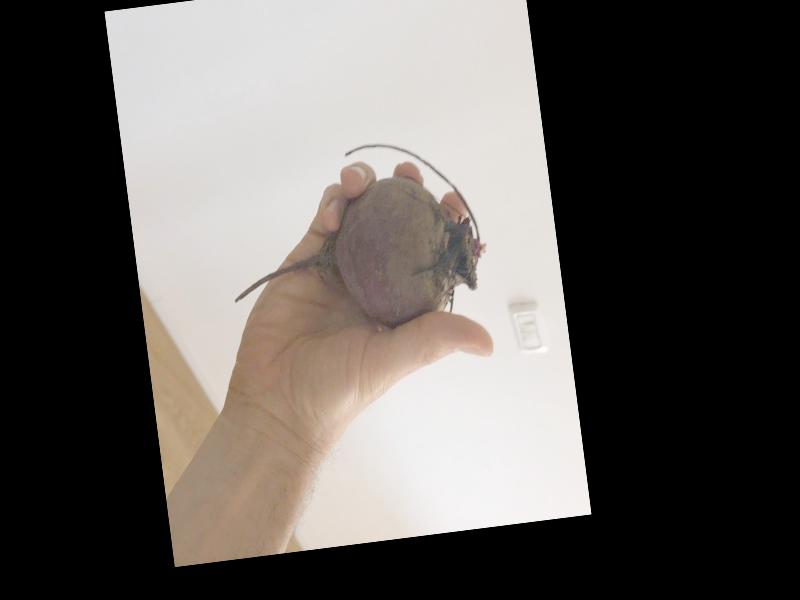Beet: (217, 129, 493, 341)
